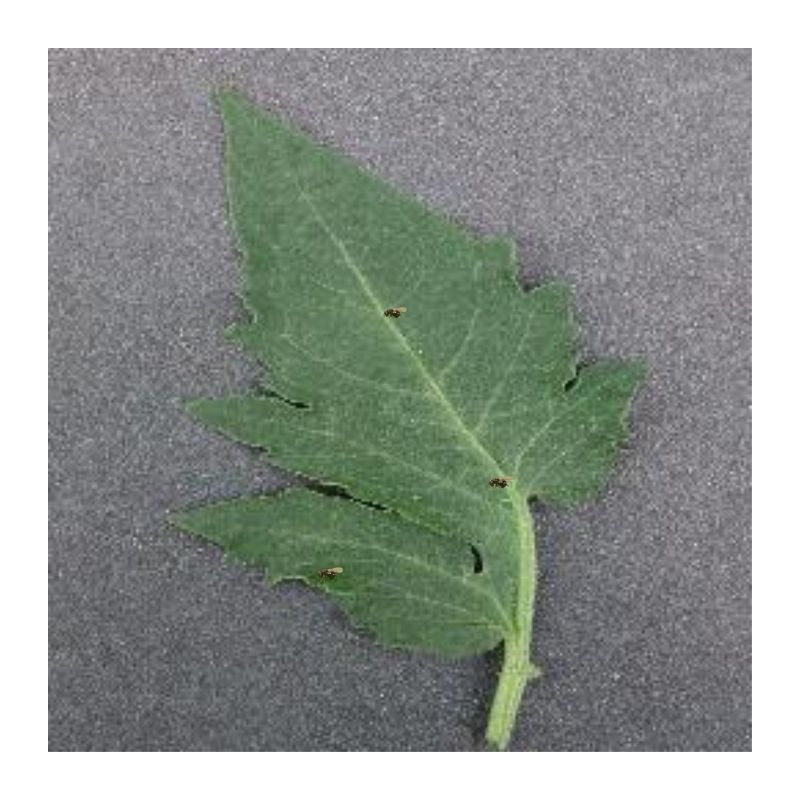liriomyza: (379, 302, 409, 317), (315, 564, 344, 579), (487, 474, 513, 487)
